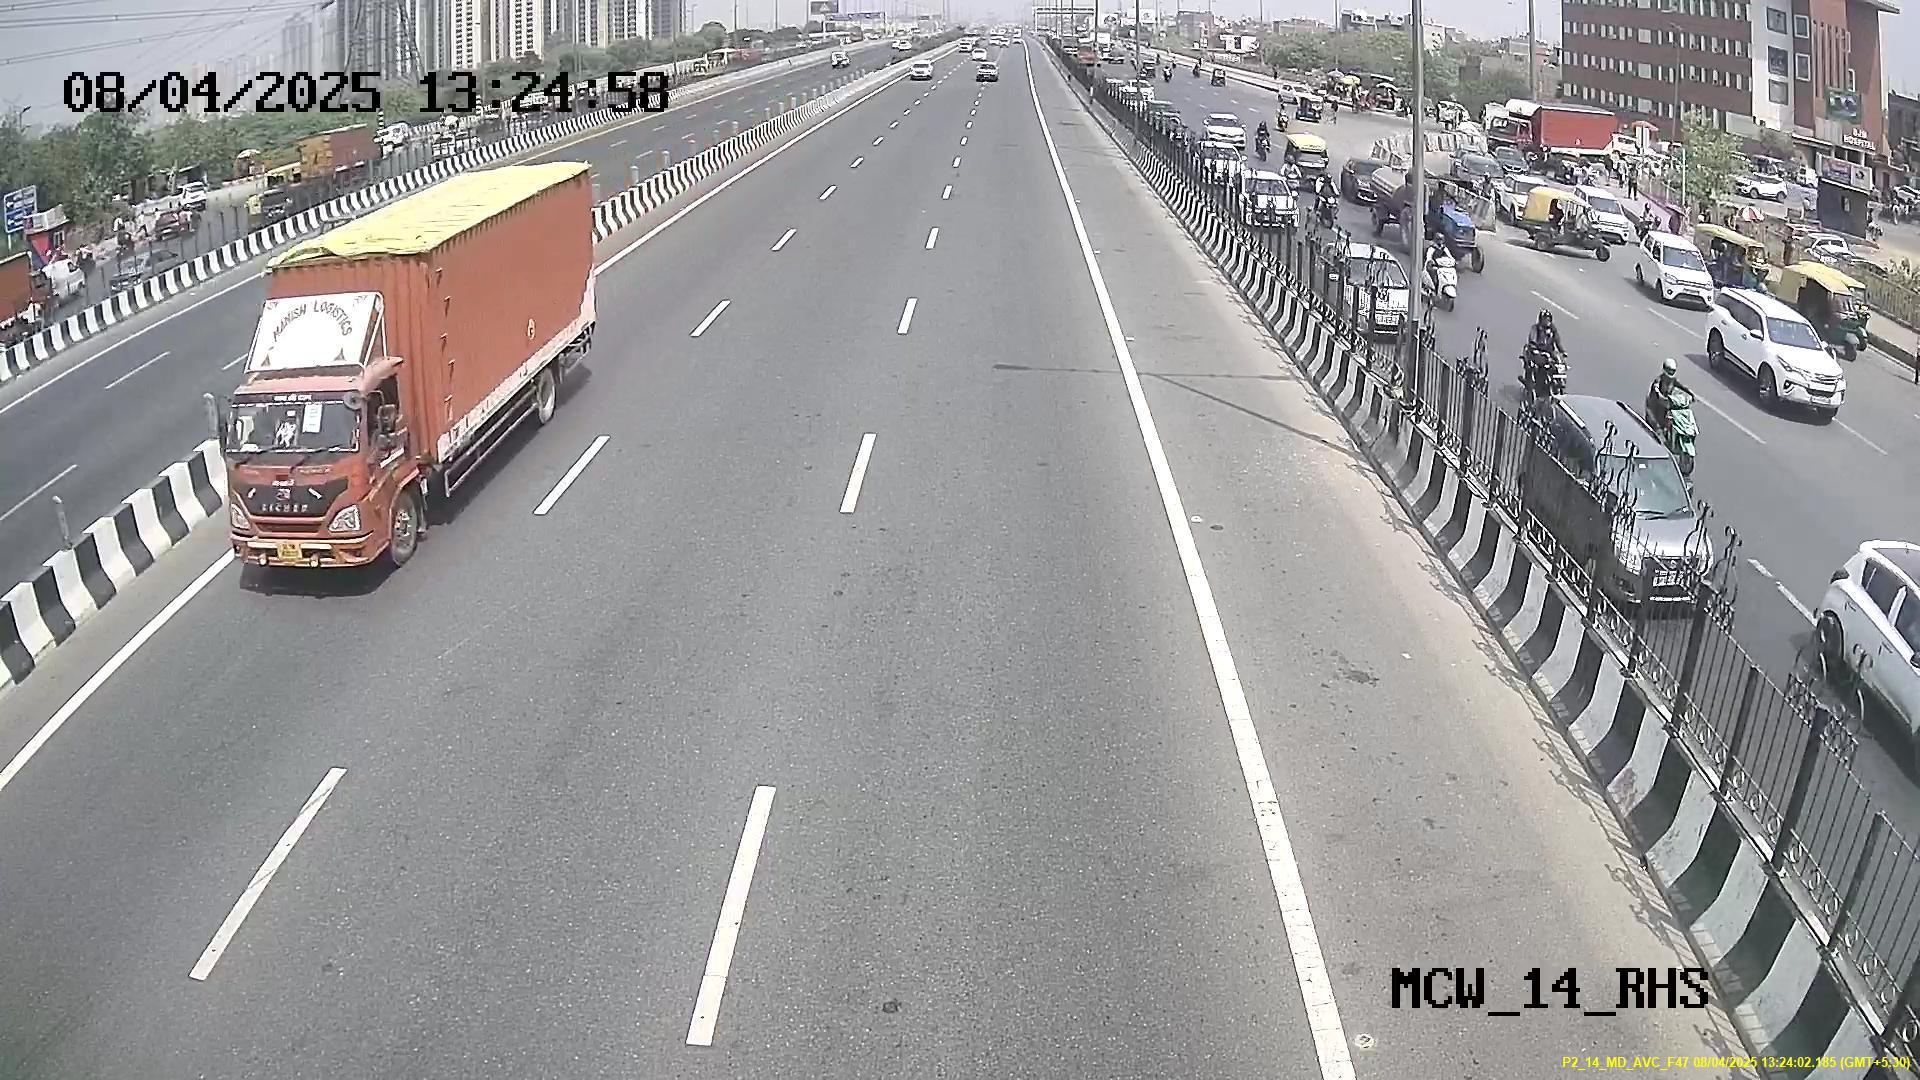lcv: (228, 363, 409, 579)
